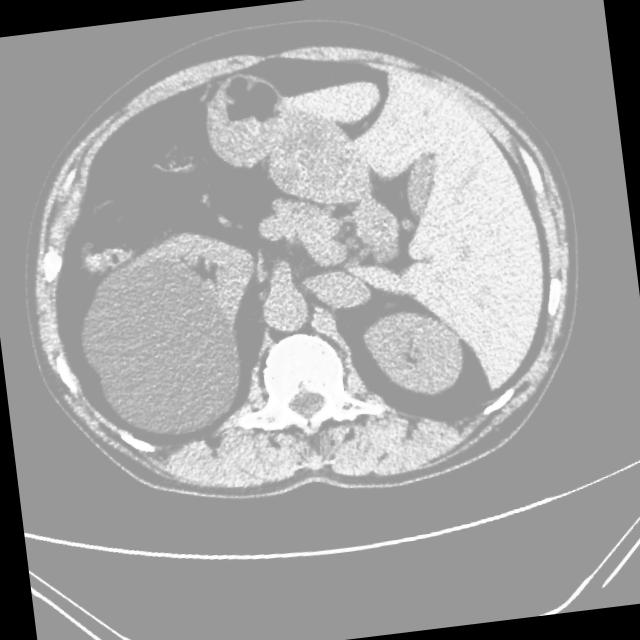cysts: (3, 8, 602, 525)
